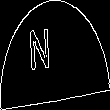N_S: (43, 28, 67, 82)
